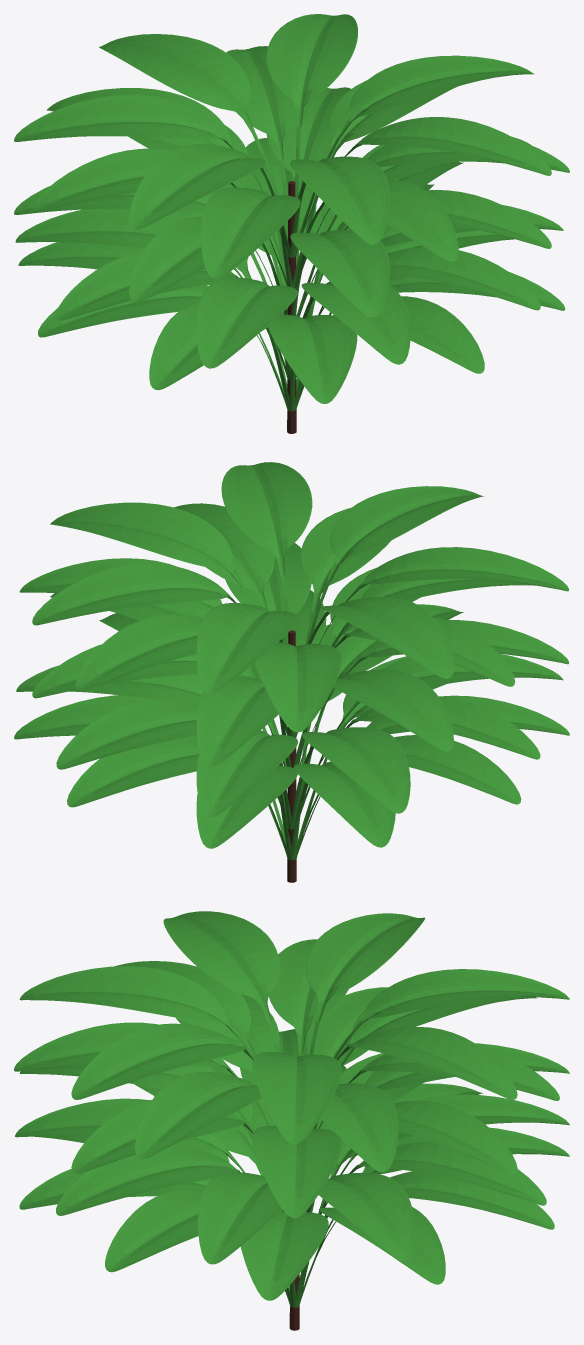
Rendered from big_plant.fbx.
3 views of the same model, one above another, from view 1: azimuth 30°, elevation 25°; view 2: azimuth 150°, elevation 25°; view 3: azimuth 270°, elevation 25° (orthographic).
Parts seen in each view (by area): view 1: Circle.036, Circle.034, Circle.037, Circle.035, Circle.033, big_plant; view 2: Circle.036, Circle.034, Circle.037, Circle.035, Circle.033, big_plant; view 3: Circle.036, Circle.034, Circle.037, Circle.035, Circle.033.
Part boxes in pixels (x1,y1,x2,y2): Circle.036: (14,14,551,258); Circle.034: (15,138,563,379); Circle.037: (33,46,569,288); Circle.035: (18,184,565,411); Circle.033: (14,87,551,317); big_plant: (287,181,296,433); Circle.036: (32,462,568,693); Circle.034: (16,590,563,829); Circle.037: (19,503,535,737); Circle.035: (14,624,569,860); Circle.033: (32,542,568,767); big_plant: (287,630,296,882); Circle.036: (19,911,569,1144); Circle.034: (15,1029,569,1275); Circle.037: (14,939,559,1172); Circle.035: (19,1065,569,1308); Circle.033: (19,987,569,1218).
Bounding box in the file's own units: 487 × 314 × 480.
